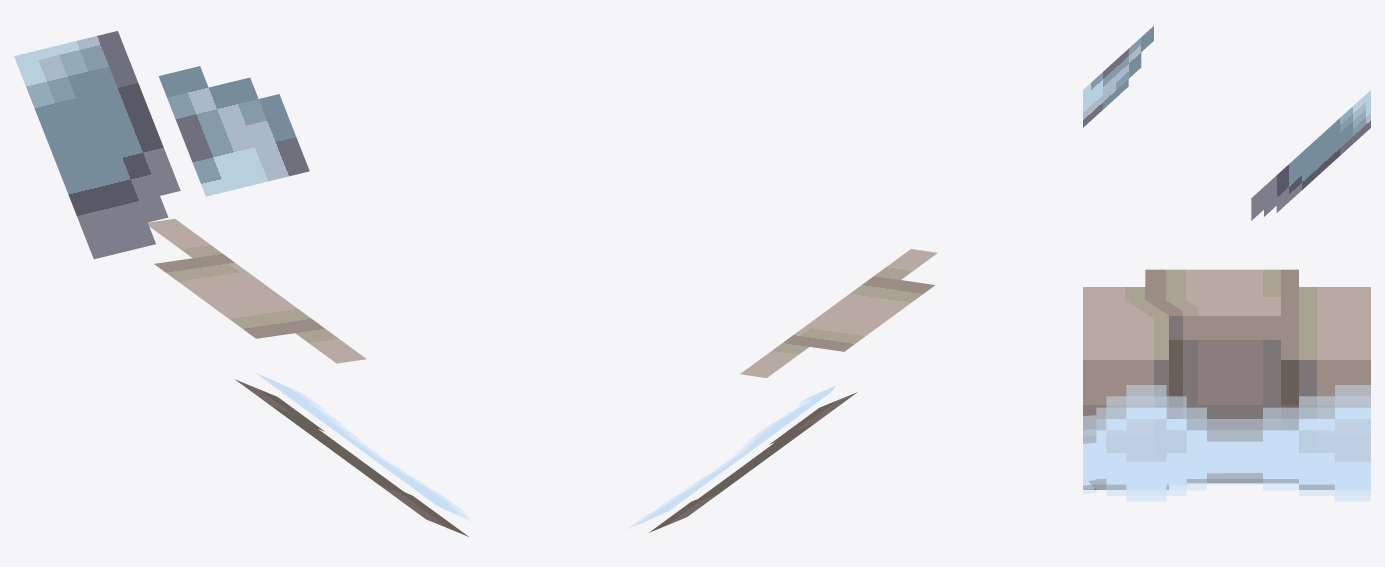
3 renders of one model, left to right at view 1: azimuth 30°, elevation 25°; view 2: azimuth 150°, elevation 25°; view 3: azimuth 270°, elevation 25°, orthographic. The views are drawn at different scales.
Size of the model in its own units: 1.05 by 1.58 by 1.
3 materials, 3 textured.
